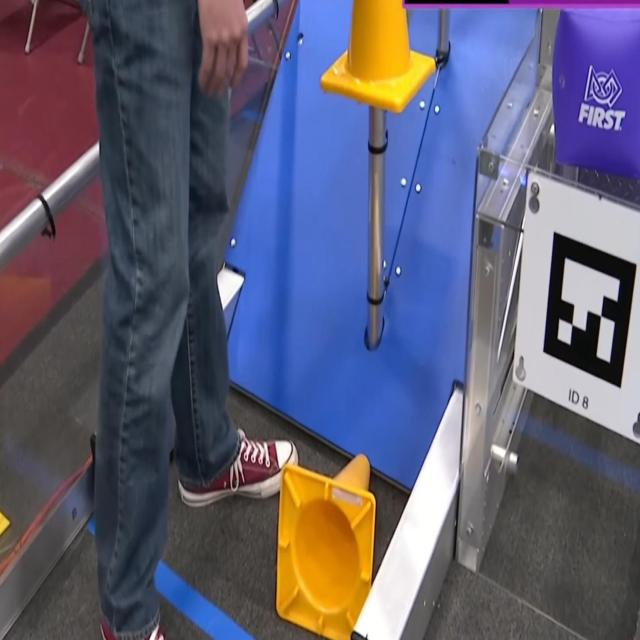frc_cone: (276, 454, 379, 627), (318, 0, 438, 121)
frc_cube: (549, 0, 640, 178)
